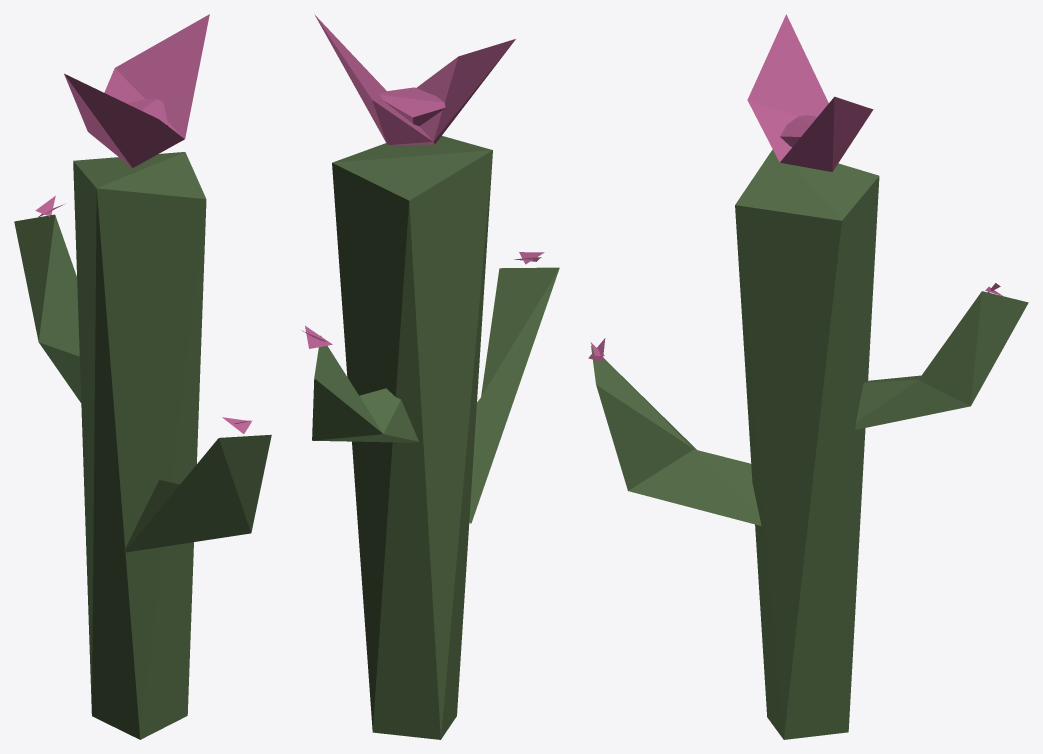
The model's file is CactusFlowers_3.lod3.glb.
3 views of the same model, side by side, from view 1: azimuth 30°, elevation 25°; view 2: azimuth 150°, elevation 25°; view 3: azimuth 270°, elevation 25° (orthographic). The views are drawn at different scales.
Visible parts, largest first — view 1: CactusFlowers_3; view 2: CactusFlowers_3; view 3: CactusFlowers_3.
Boxes of the visible parts, x1=… form: CactusFlowers_3: x1=14, y1=14, x2=271, y2=739; CactusFlowers_3: x1=302, y1=14, x2=559, y2=739; CactusFlowers_3: x1=588, y1=14, x2=1028, y2=739.
Size of the model in its own units: 0.4348 by 1.65 by 0.9809.
